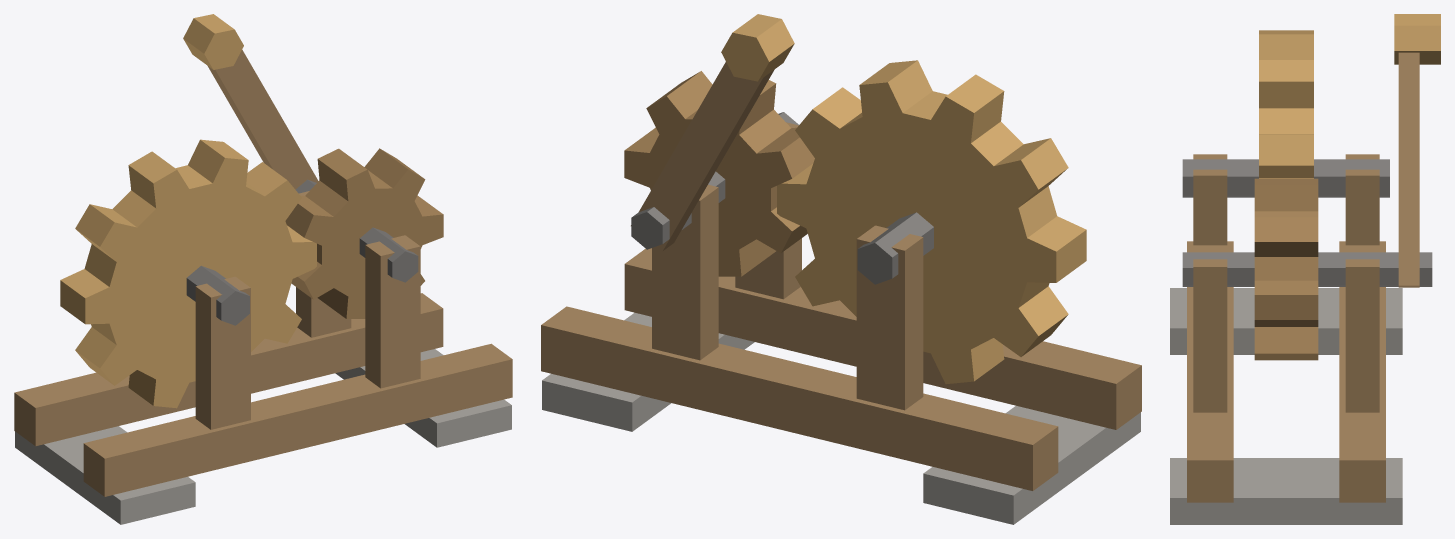
The model's file is it-mechanism.glb.
3 views of the same model, side by side, from view 1: azimuth 30°, elevation 25°; view 2: azimuth 150°, elevation 25°; view 3: azimuth 270°, elevation 25° (orthographic). The views are drawn at different scales.
Visible parts, largest first — view 1: gear_big, skid_r, gear_small, skid_l, post_small_r, post_big_r, footing_l, lever, footing_r, lever_knob, axle_big, post_small_l (+1 smaller); view 2: gear_big, skid_l, skid_r, gear_small, post_big_l, post_small_l, footing_l, lever, footing_r, lever_knob, axle_big, post_small_r (+1 smaller); view 3: gear_small, footing_r, gear_big, skid_l, skid_r, post_small_l, post_small_r, footing_l, lever, axle_small, axle_big, post_big_l (+2 smaller).
Boxes of the visible parts, <box> form: gear_big: <box>60,139,316,408</box>; skid_r: <box>83,343,512,496</box>; gear_small: <box>285,148,443,318</box>; skid_l: <box>14,293,443,446</box>; post_small_r: <box>365,235,420,388</box>; post_big_r: <box>195,276,250,429</box>; footing_l: <box>15,426,195,524</box>; lever: <box>208,49,318,189</box>; footing_r: <box>335,349,511,447</box>; lever_knob: <box>183,14,243,69</box>; axle_big: <box>186,265,249,325</box>; post_small_l: <box>296,191,351,337</box>; gear_big: <box>777,60,1086,384</box>; skid_l: <box>541,306,1058,490</box>; skid_r: <box>624,248,1141,429</box>; gear_small: <box>624,71,814,276</box>; post_big_l: <box>856,225,923,410</box>; post_small_l: <box>652,184,718,360</box>; footing_l: <box>923,405,1140,524</box>; lever: <box>631,62,774,251</box>; footing_r: <box>542,312,754,431</box>; lever_knob: <box>721,14,794,81</box>; axle_big: <box>857,212,933,284</box>; post_small_r: <box>735,122,801,299</box>; gear_small: <box>1254,178,1318,360</box>; footing_r: <box>1170,458,1402,524</box>; gear_big: <box>1259,30,1313,178</box>; skid_l: <box>1339,241,1385,502</box>; skid_r: <box>1187,241,1233,502</box>; post_small_l: <box>1345,245,1379,412</box>; post_small_r: <box>1193,245,1227,412</box>; footing_l: <box>1170,288,1402,354</box>; lever: <box>1398,52,1419,287</box>; axle_small: <box>1182,252,1432,286</box>; axle_big: <box>1182,159,1389,197</box>; post_big_l: <box>1345,154,1379,245</box>.
Size of what is drawn, in the model's own units: 0.245 by 0.2118 by 0.128.
